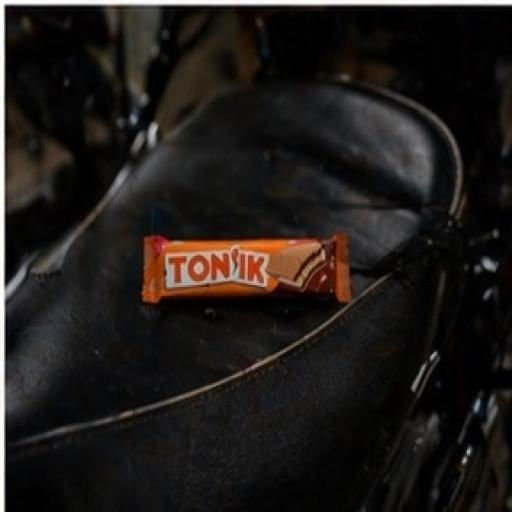tonik: (87, 97, 428, 391)
